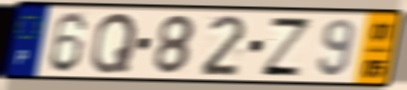2: (197, 14, 249, 78)
6: (47, 9, 89, 76)
8: (150, 13, 196, 77)
9: (314, 18, 357, 79)
Q: (88, 11, 141, 76)
Z: (258, 15, 315, 79)
